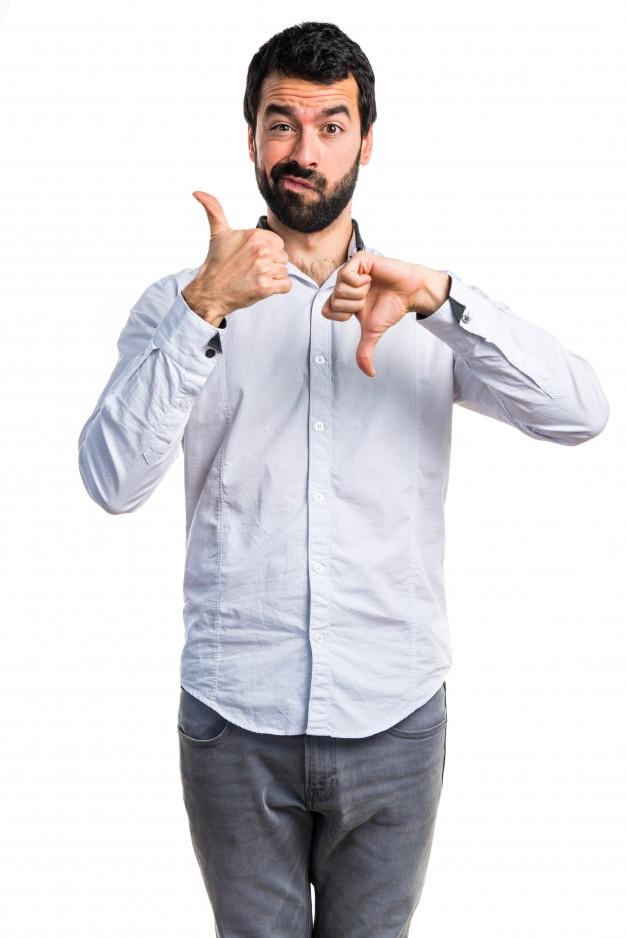thumbsup: (192, 190, 292, 295)
